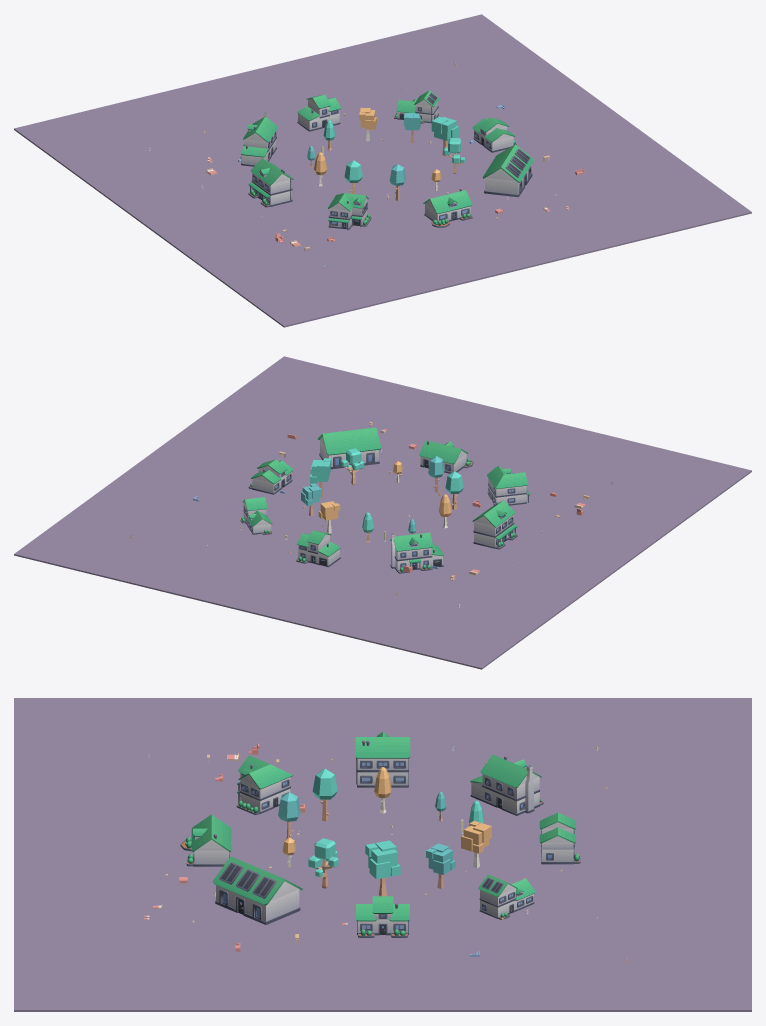
The model's file is world.glb.
3 views of the same model, one above another, from view 1: azimuth 30°, elevation 25°; view 2: azimuth 150°, elevation 25°; view 3: azimuth 270°, elevation 25° (orthographic). The views are drawn at different scales.
Visible parts, largest first — view 1: Terrain, House_007_building-type-h, House_004_building-type-e, House_003_building-type-d, House_006_building-type-g, House_005_building-type-f, House_002_building-type-c, House_000_building-type-a, House_001_building-type-b, Tree_000_tree_blocks; view 2: Terrain, House_007_building-type-h, House_003_building-type-d, House_004_building-type-e, House_005_building-type-f, House_002_building-type-c, House_006_building-type-g, House_000_building-type-a, House_001_building-type-b; view 3: Terrain, House_007_building-type-h, House_003_building-type-d, House_004_building-type-e, House_005_building-type-f, House_006_building-type-g, House_000_building-type-a, House_001_building-type-b, House_002_building-type-c, Tree_000_tree_blocks, Tree_009_tree_detailed, Tree_002_tree_blocks_fall (+3 smaller).
Boxes of the visible parts, x1,y1,x2,y2 form: Terrain: (14, 14, 751, 327); House_007_building-type-h: (482, 144, 533, 197); House_004_building-type-e: (248, 158, 293, 207); House_003_building-type-d: (240, 112, 277, 166); House_006_building-type-g: (423, 188, 472, 227); House_005_building-type-f: (328, 193, 371, 230); House_002_building-type-c: (297, 94, 341, 131); House_000_building-type-a: (472, 117, 517, 152); House_001_building-type-b: (394, 90, 439, 123); Tree_000_tree_blocks: (431, 117, 458, 156); Terrain: (14, 356, 751, 669); House_007_building-type-h: (317, 427, 380, 469); House_003_building-type-d: (390, 532, 443, 573); House_004_building-type-e: (472, 500, 517, 549); House_005_building-type-f: (487, 466, 530, 505); House_002_building-type-c: (296, 530, 340, 567); House_006_building-type-g: (419, 440, 473, 473); House_000_building-type-a: (248, 459, 293, 494); House_001_building-type-b: (240, 497, 272, 534); Terrain: (14, 698, 751, 1011); House_007_building-type-h: (213, 856, 302, 924); House_003_building-type-d: (470, 754, 543, 815); House_004_building-type-e: (355, 732, 410, 787); House_005_building-type-f: (236, 755, 292, 814); House_006_building-type-g: (180, 814, 231, 866); House_000_building-type-a: (356, 896, 409, 937); House_001_building-type-b: (478, 874, 535, 919); House_002_building-type-c: (539, 812, 580, 864); Tree_000_tree_blocks: (365, 840, 400, 896); Tree_009_tree_detailed: (308, 838, 338, 888); Tree_002_tree_blocks_fall: (461, 821, 491, 868).
Bounding box in the file's own units: 150 × 12.06 × 150.
Materials: 96 (8 with a texture image).
